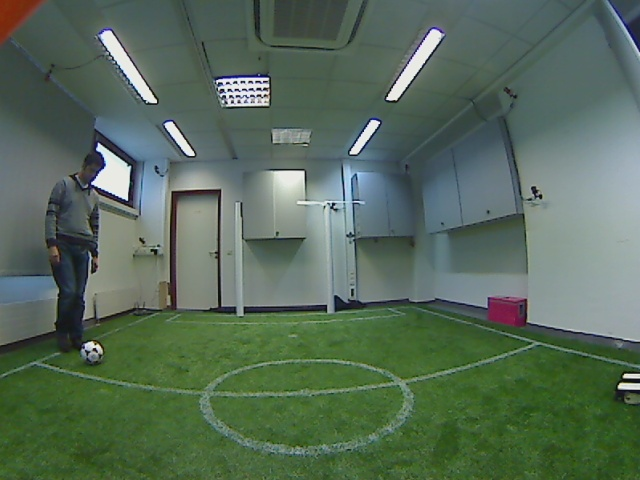ball: (76, 335, 108, 369)
